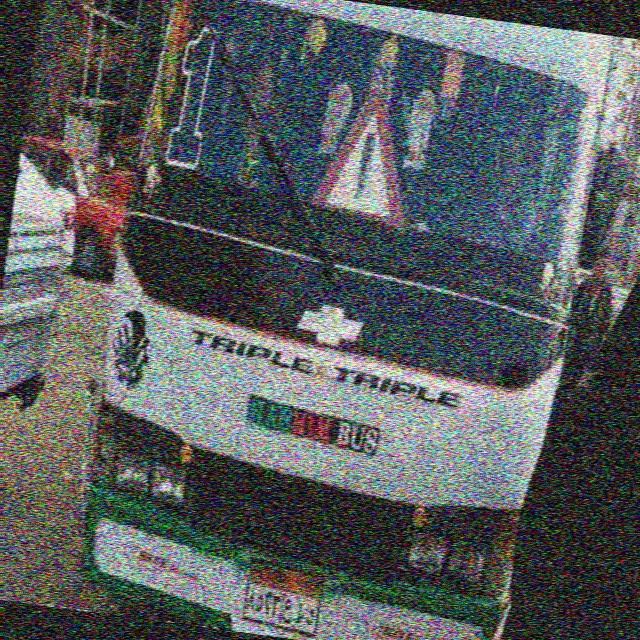License Plate: (239, 554, 328, 640)
